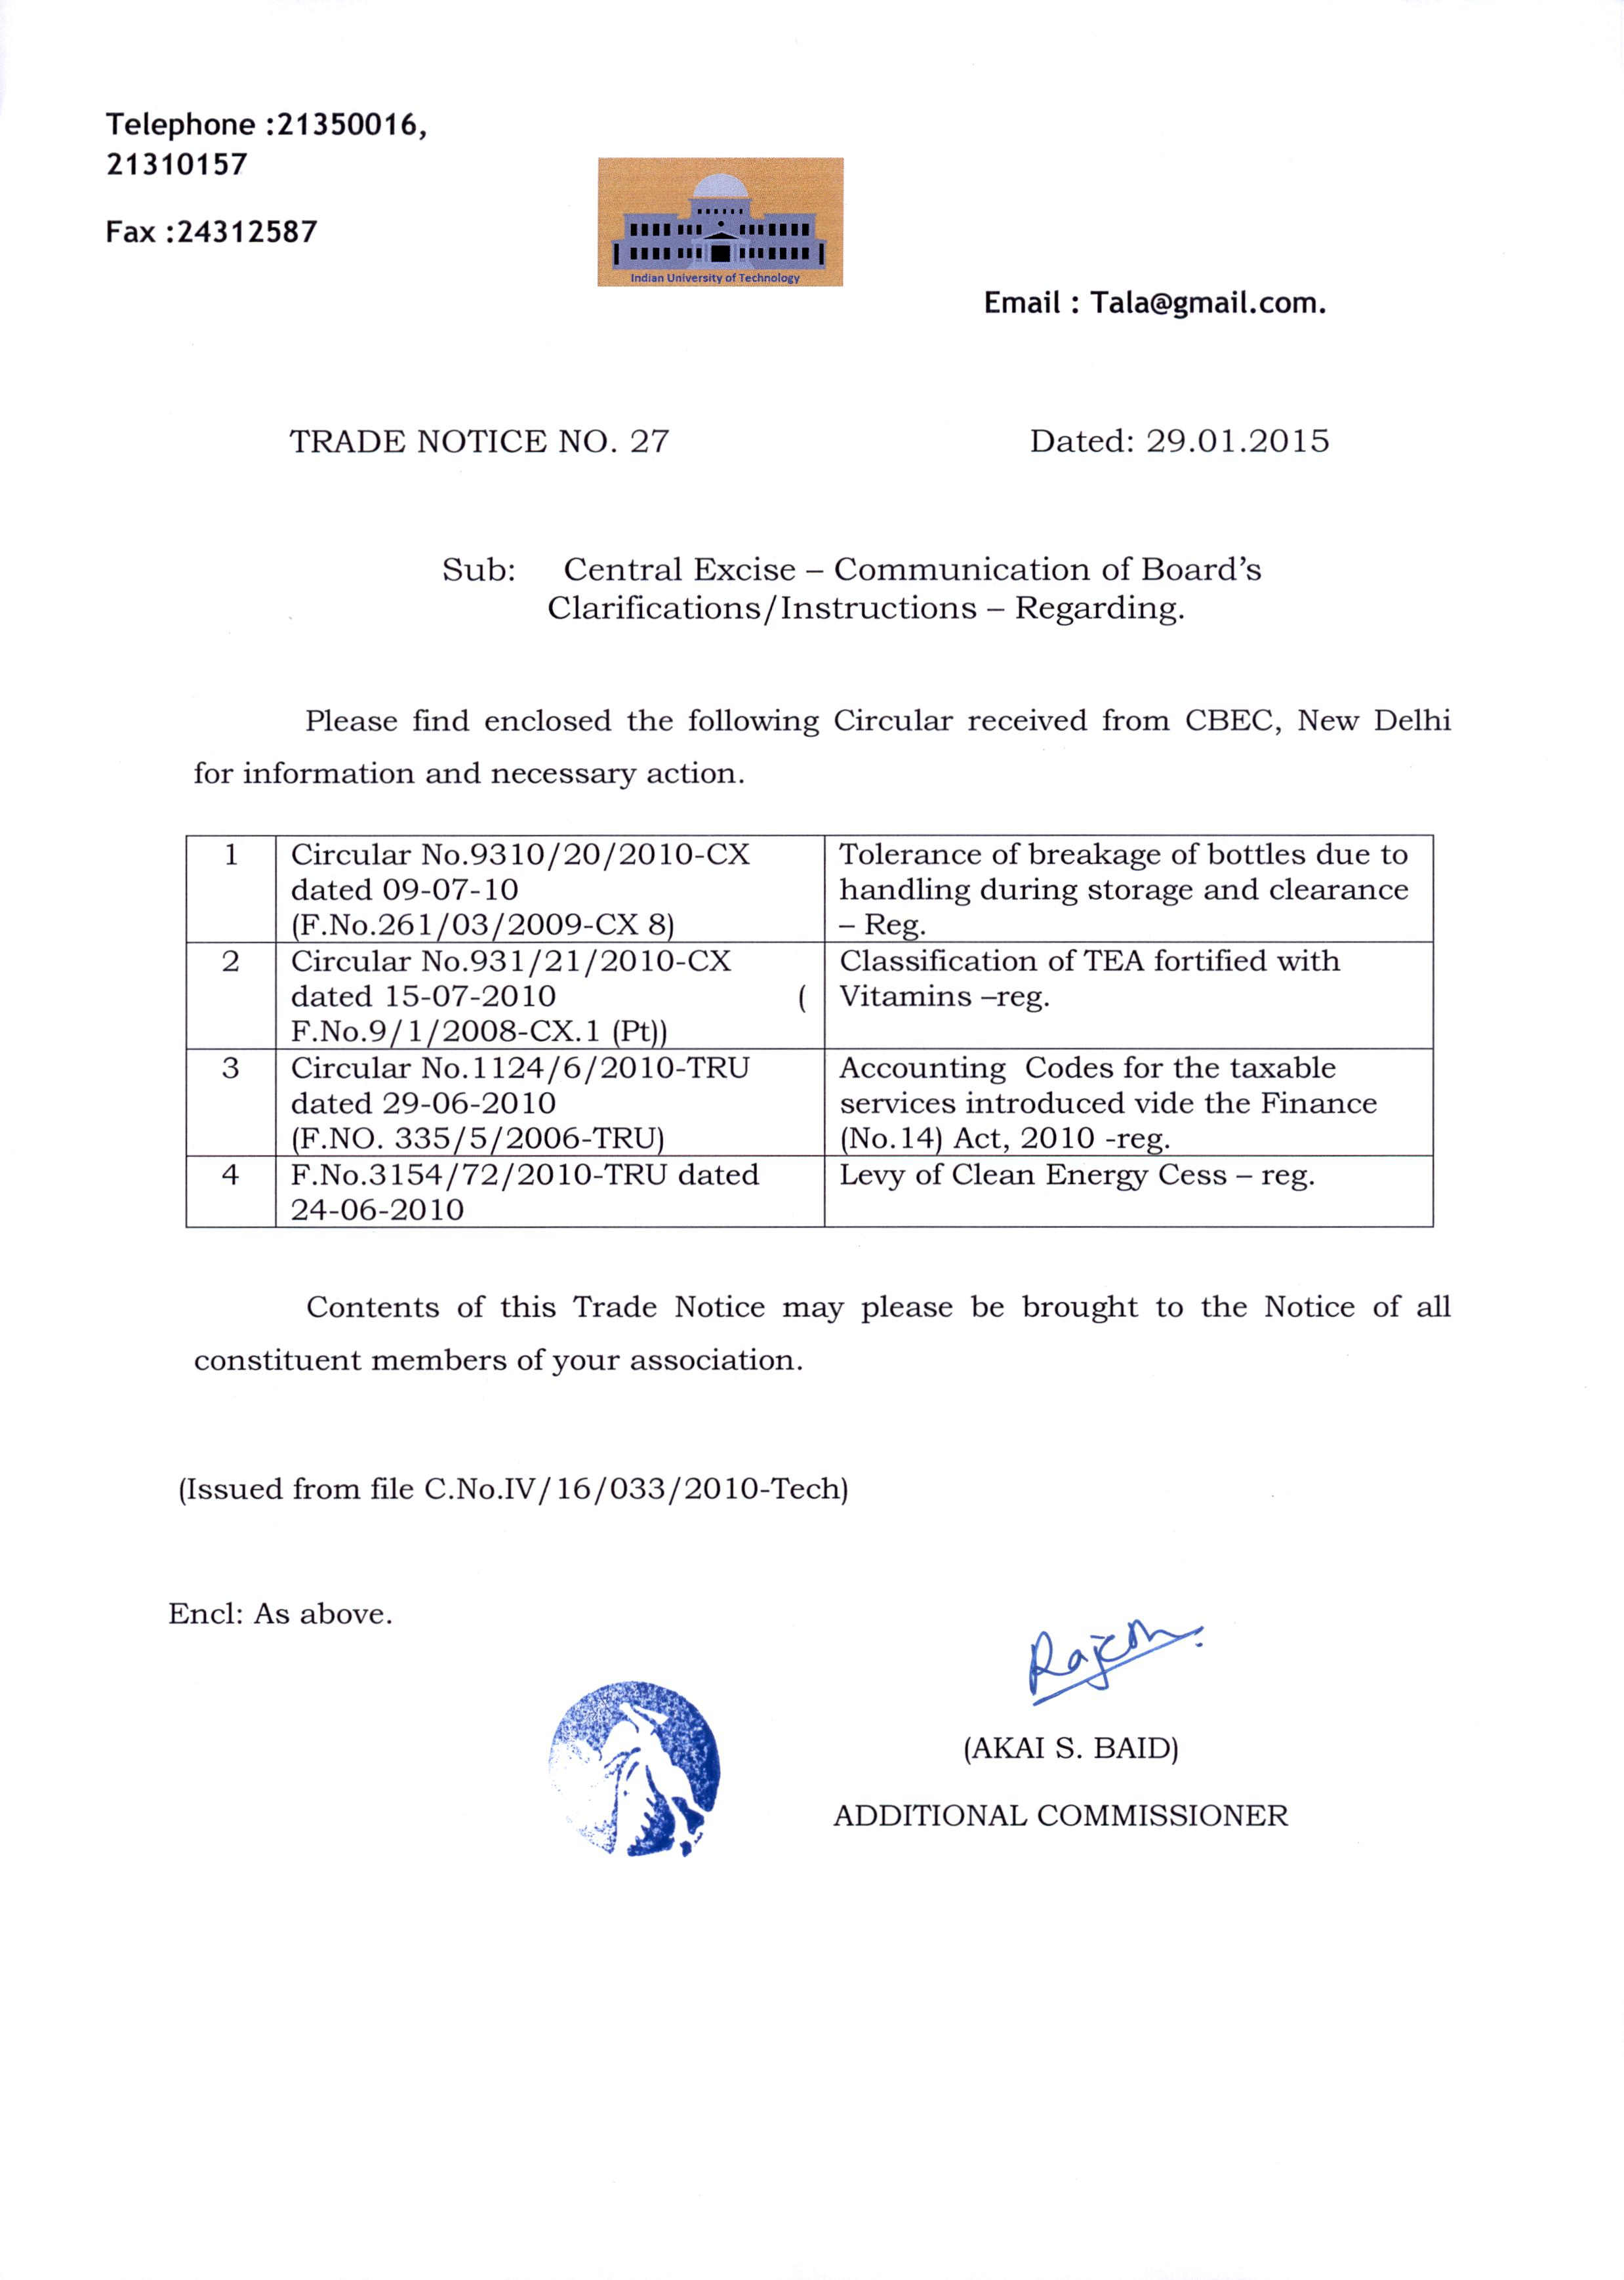Signature: (1014, 1605, 1213, 1717)
